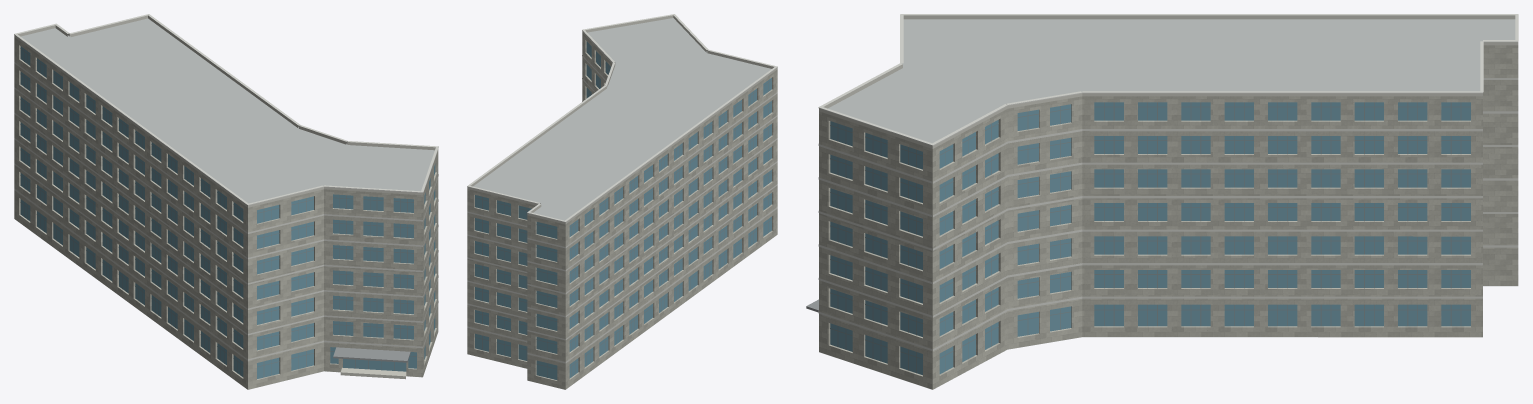
The picture shows the model from 3 angles, left to right: view 1: azimuth 30°, elevation 25°; view 2: azimuth 150°, elevation 25°; view 3: azimuth 270°, elevation 25°; orthographic projection. The views are drawn at different scales.
Visible parts, largest first — view 1: b251__wall, unist-batch-b251__parapet, b251__glass, b251__trim, b251__frame, b251__canopy, b251__entranceThreshold_0; view 2: b251__wall, unist-batch-b251__parapet, b251__glass, b251__trim, b251__frame; view 3: b251__wall, b251__glass, unist-batch-b251__parapet, b251__trim, b251__frame.
Part boxes in pixels (x1,y1,x2,y2): b251__wall: (14,37,438,389); unist-batch-b251__parapet: (14,15,438,389); b251__glass: (20,46,435,378); b251__trim: (14,14,438,360); b251__frame: (20,48,435,377); b251__canopy: (333,347,410,362); b251__entranceThreshold_0: (340,367,406,379); b251__wall: (467,33,777,389); unist-batch-b251__parapet: (467,15,777,389); b251__glass: (475,41,771,379); b251__trim: (467,14,777,363); b251__frame: (475,44,771,377); b251__wall: (819,45,1518,389); b251__glass: (830,102,1470,375); unist-batch-b251__parapet: (819,15,1518,389); b251__trim: (818,14,1518,350); b251__frame: (830,102,1470,373).
Size of the model in its own units: 31.93 by 28.15 by 73.23.
Materials: 7 (1 with a texture image).
